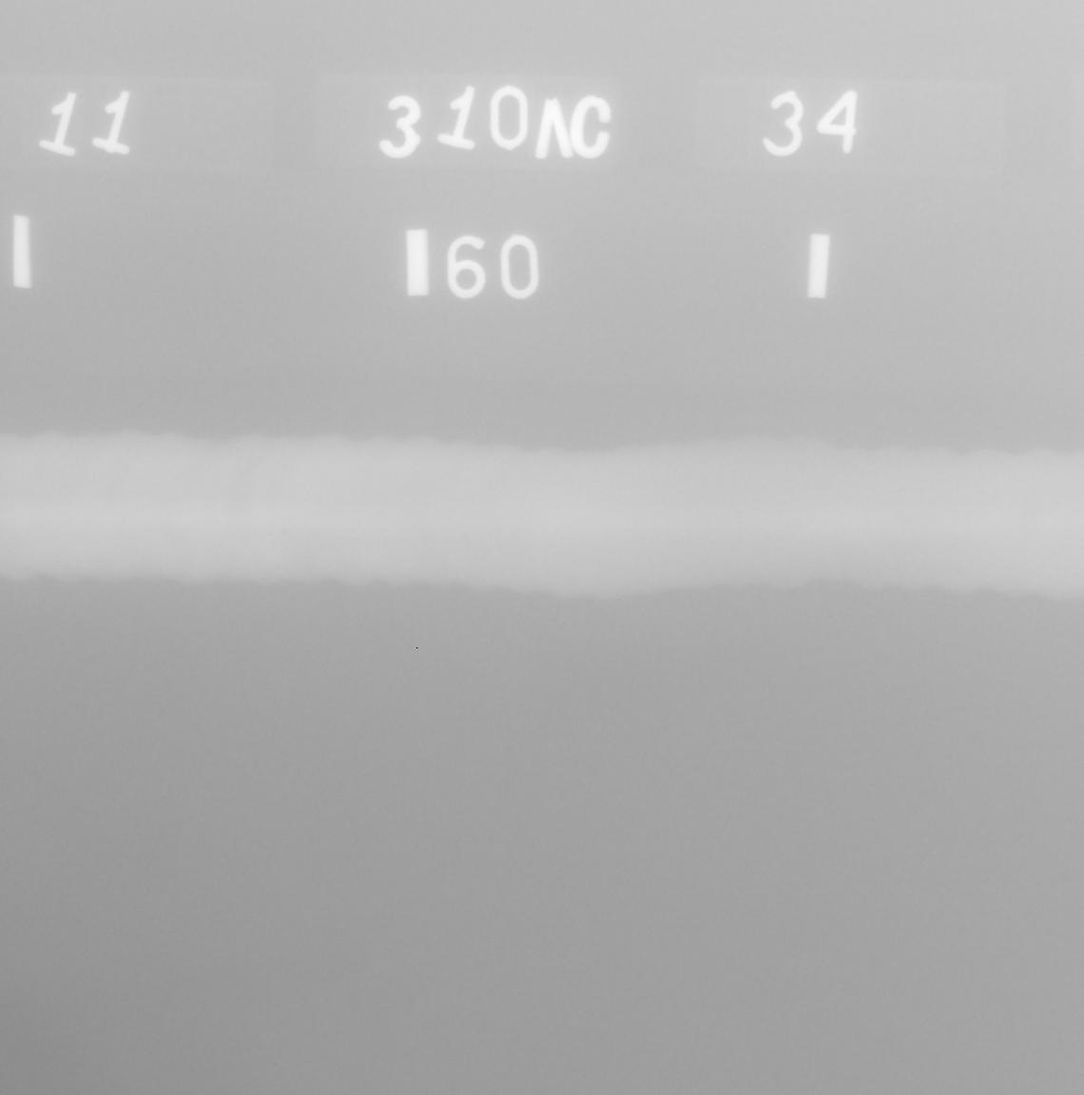Pore/Porosity: (265, 529, 274, 537), (281, 527, 290, 535), (509, 533, 514, 539)
